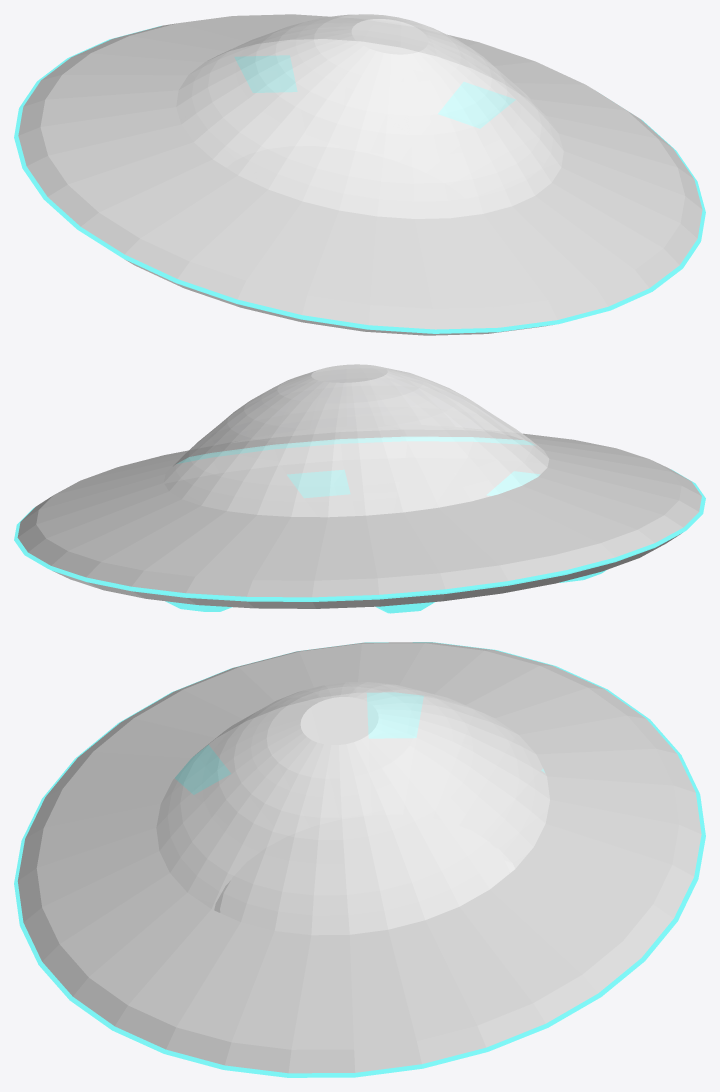
Rendered from alien.gltf.
The picture shows the model from 3 angles, top to bottom: view 1: azimuth 30°, elevation 25°; view 2: azimuth 150°, elevation 25°; view 3: azimuth 270°, elevation 25°; orthographic projection. The views are drawn at different scales.
Visible parts, largest first — view 1: Cylinder; view 2: Cylinder; view 3: Cylinder.
Boxes of the visible parts, box(x1,y1,x2,y2) form: Cylinder: box(14, 14, 705, 335); Cylinder: box(14, 364, 705, 613); Cylinder: box(14, 642, 705, 1077).
Size of the model in its own units: 7.84 by 2.68 by 7.01.
